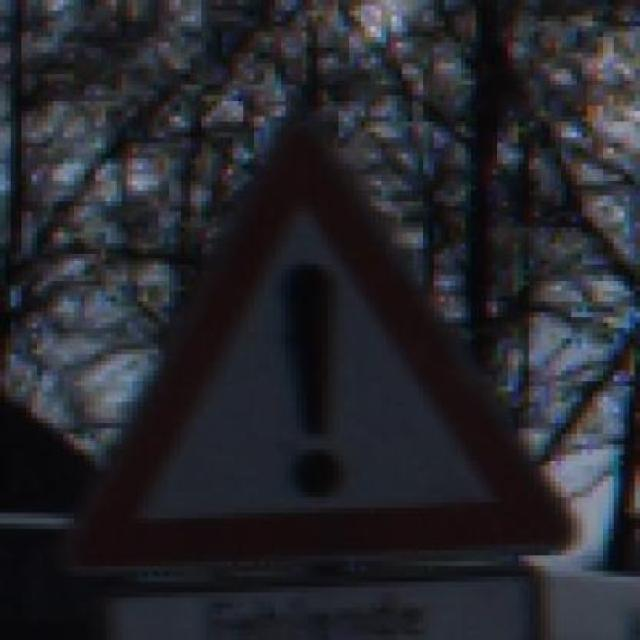Attention Please-: (68, 116, 582, 561)
